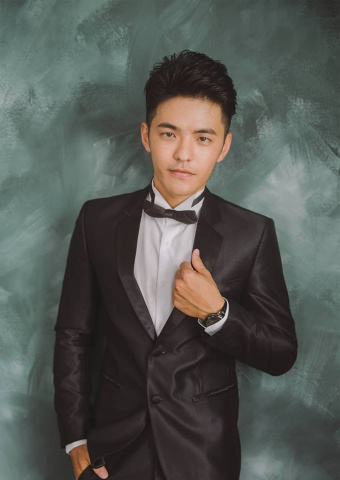male: (133, 41, 243, 206)
